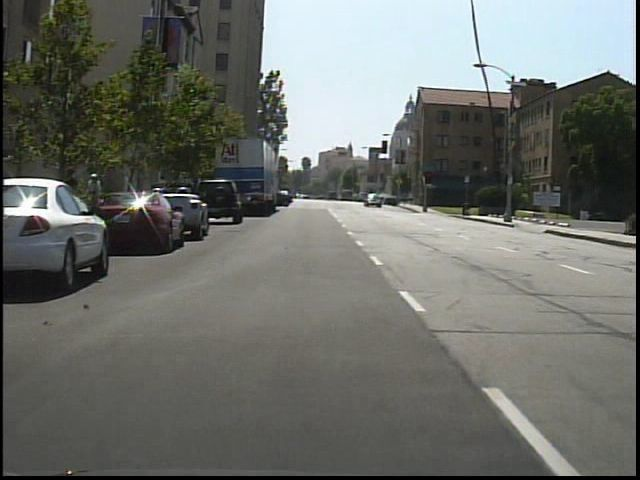person: (61, 166, 87, 231), (84, 171, 109, 225)
